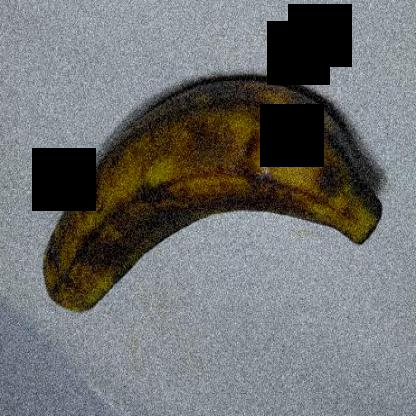overripe: (27, 65, 389, 322)
